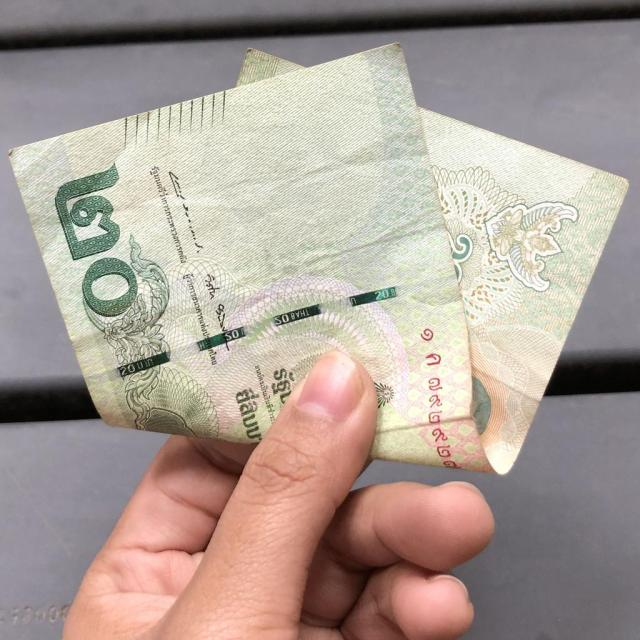THAI20: (9, 44, 628, 474)
